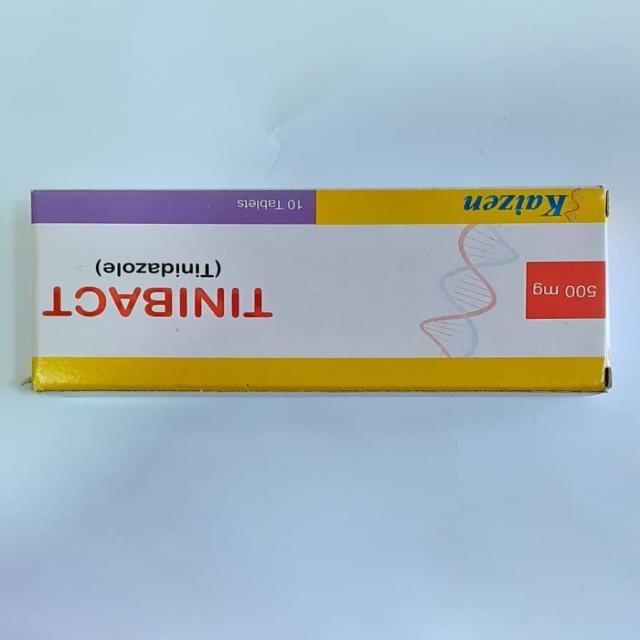drug-name: (38, 282, 279, 322)
